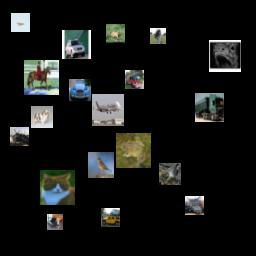airplane: (92, 94, 124, 126), (10, 127, 29, 146), (11, 13, 30, 32)
automobile: (62, 30, 91, 59), (69, 79, 91, 101), (101, 208, 120, 227), (47, 214, 63, 230)
bird: (209, 40, 241, 72), (88, 152, 114, 178), (159, 163, 181, 185), (150, 28, 166, 44)
cat: (40, 170, 75, 205), (185, 196, 204, 215)
dog: (31, 106, 53, 128)
frog: (116, 133, 151, 168), (106, 24, 125, 43)
truck: (195, 93, 224, 122), (125, 70, 144, 89)
